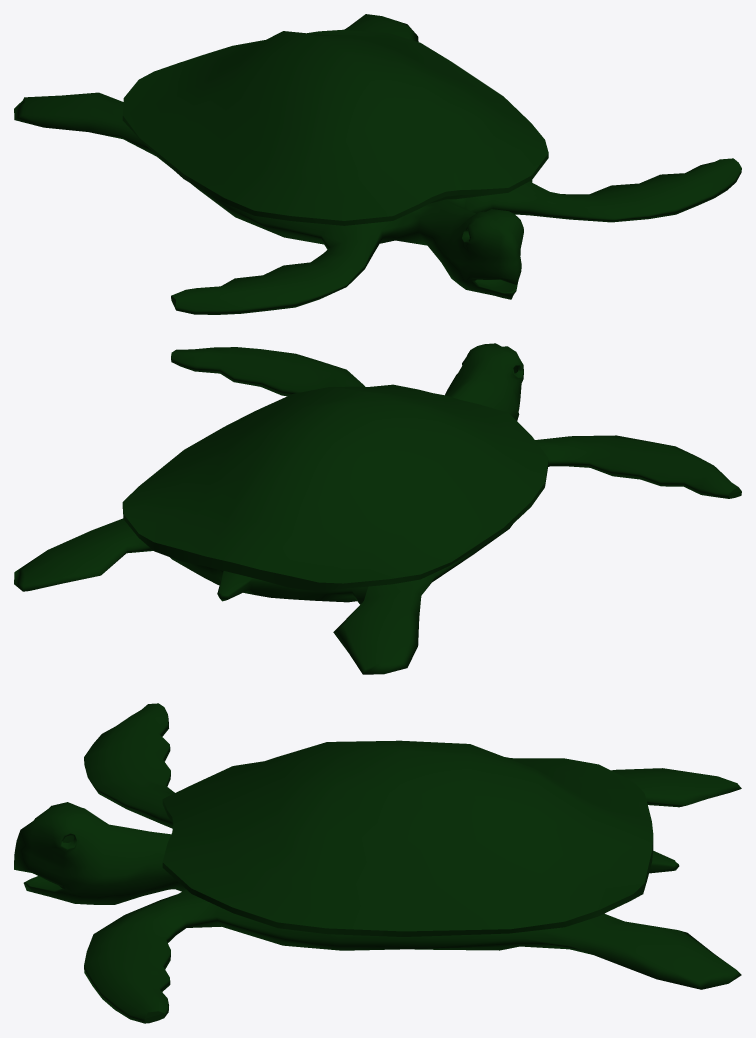
Rendered from TurtleSkinMesh.obj.
3 views of the same model, one above another, from view 1: azimuth 30°, elevation 25°; view 2: azimuth 150°, elevation 25°; view 3: azimuth 270°, elevation 25° (orthographic). The views are drawn at different scales.
Visible parts, largest first — view 1: TurtleSkin SkinMeshes Geometry; view 2: TurtleSkin SkinMeshes Geometry; view 3: TurtleSkin SkinMeshes Geometry.
Boxes of the visible parts, bbox=[...] form: TurtleSkin SkinMeshes Geometry: bbox=[14, 14, 741, 314]; TurtleSkin SkinMeshes Geometry: bbox=[14, 343, 741, 674]; TurtleSkin SkinMeshes Geometry: bbox=[14, 703, 741, 1023].
Bounding box in the file's own units: 20.82 × 5.03 × 20.64.
